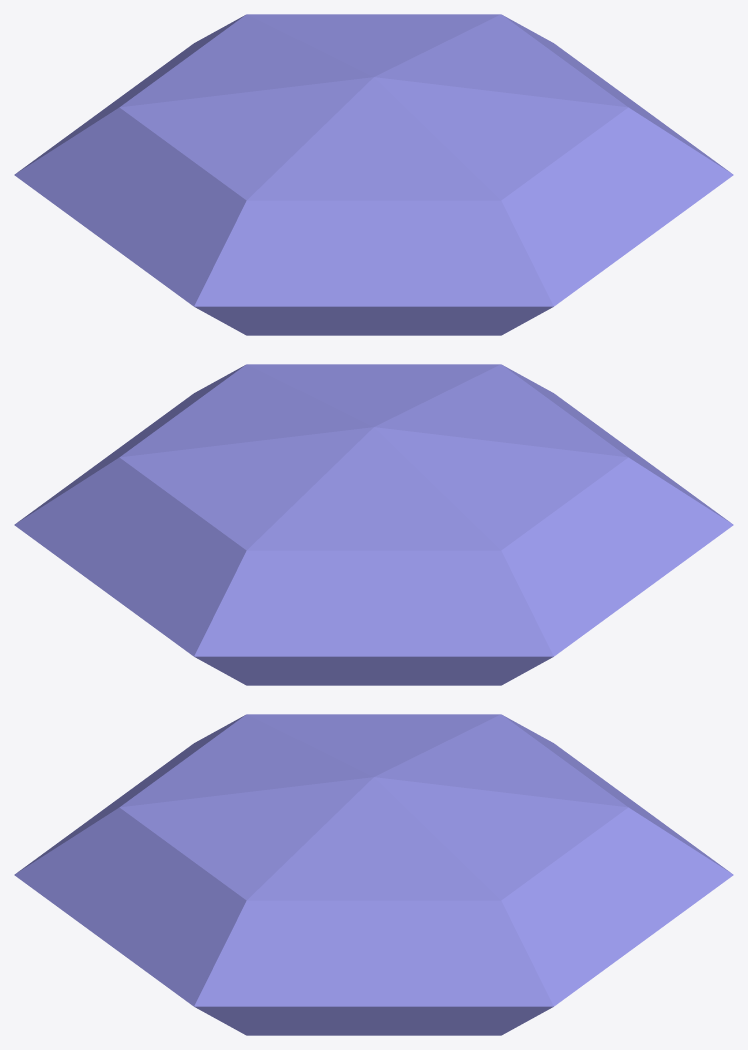
Rendered from Marker_1.glb.
The picture shows the model from 3 angles, top to bottom: view 1: azimuth 30°, elevation 25°; view 2: azimuth 150°, elevation 25°; view 3: azimuth 270°, elevation 25°; orthographic projection.
Visible parts, largest first — view 1: Marker; view 2: Marker; view 3: Marker.
Boxes of the visible parts, x1,y1,x2,y2 form: Marker: (14,14,733,335); Marker: (14,364,733,685); Marker: (14,714,733,1035).
Bounding box in the file's own units: 0.6928 × 0.2028 × 0.8.
